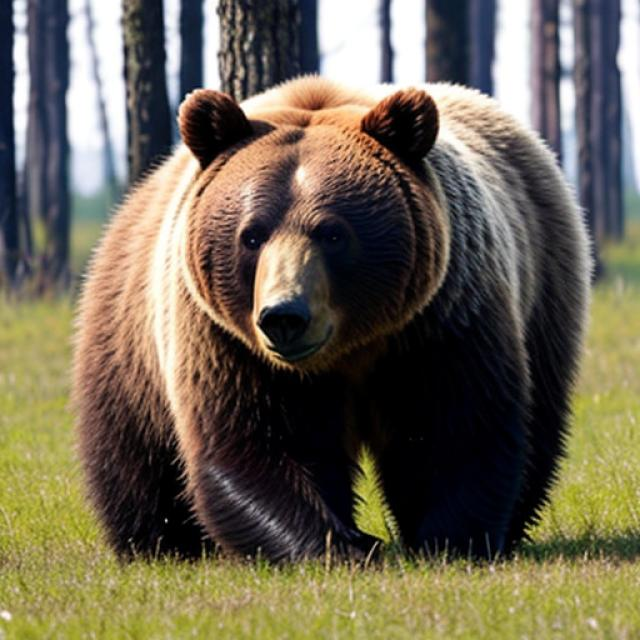bear: (69, 59, 578, 562)
